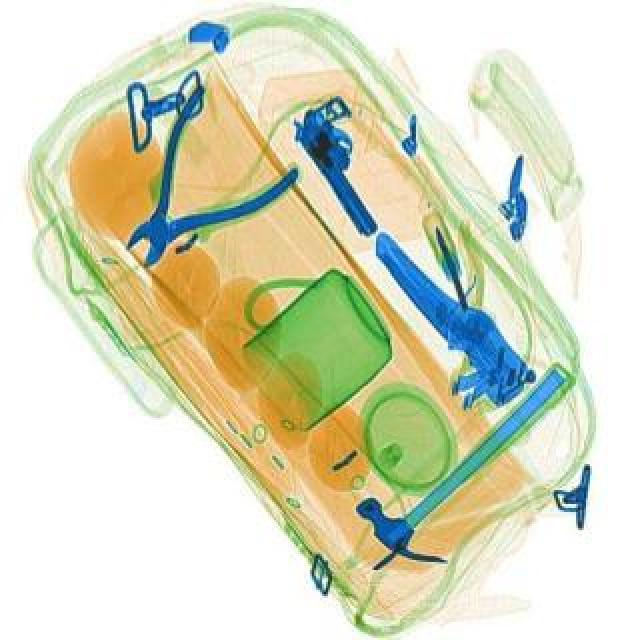gun: (284, 88, 416, 238)
wrench: (76, 84, 302, 296)
